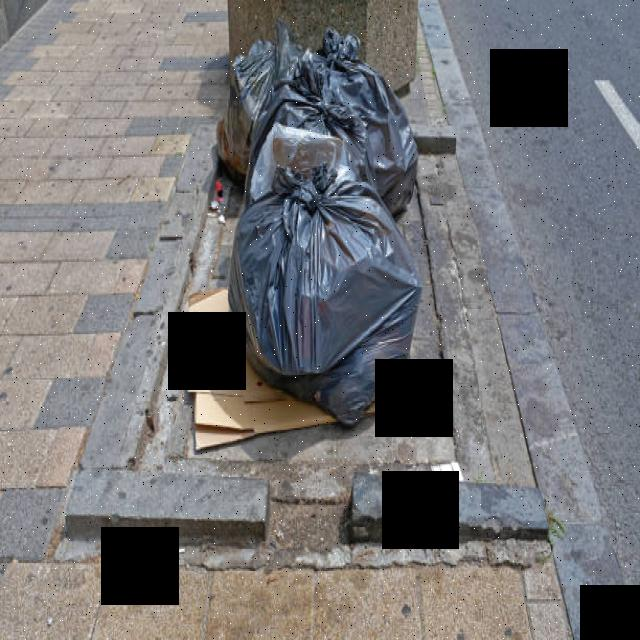garbage: (185, 25, 424, 455)
